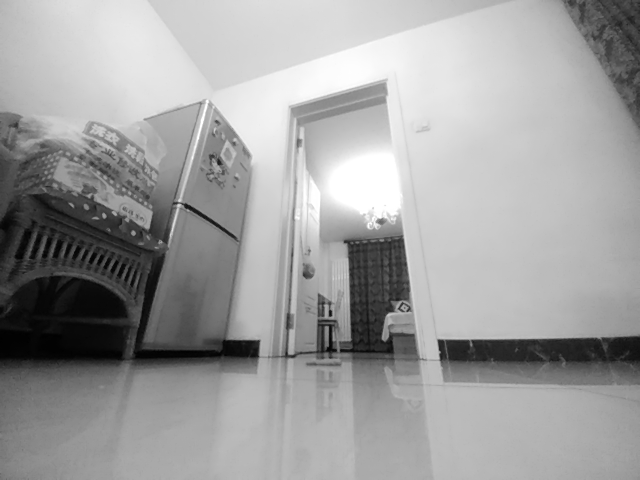curtain: (343, 235, 411, 353)
pet feces: (307, 358, 343, 368)
